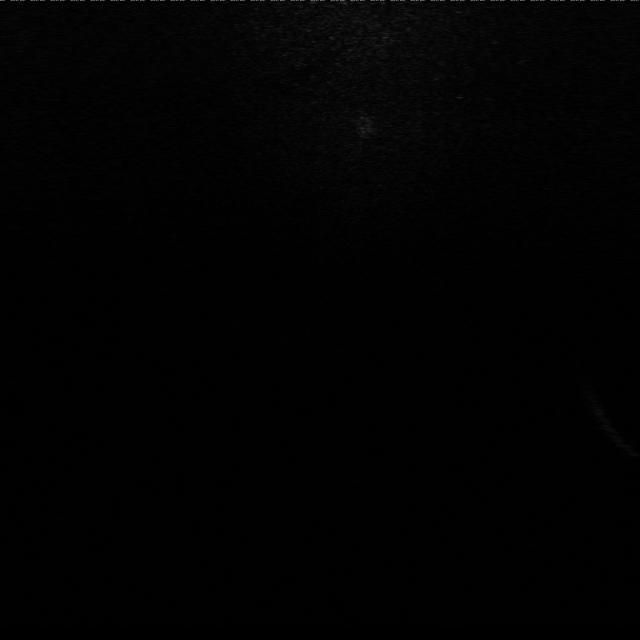circle cage: (352, 109, 384, 139)
